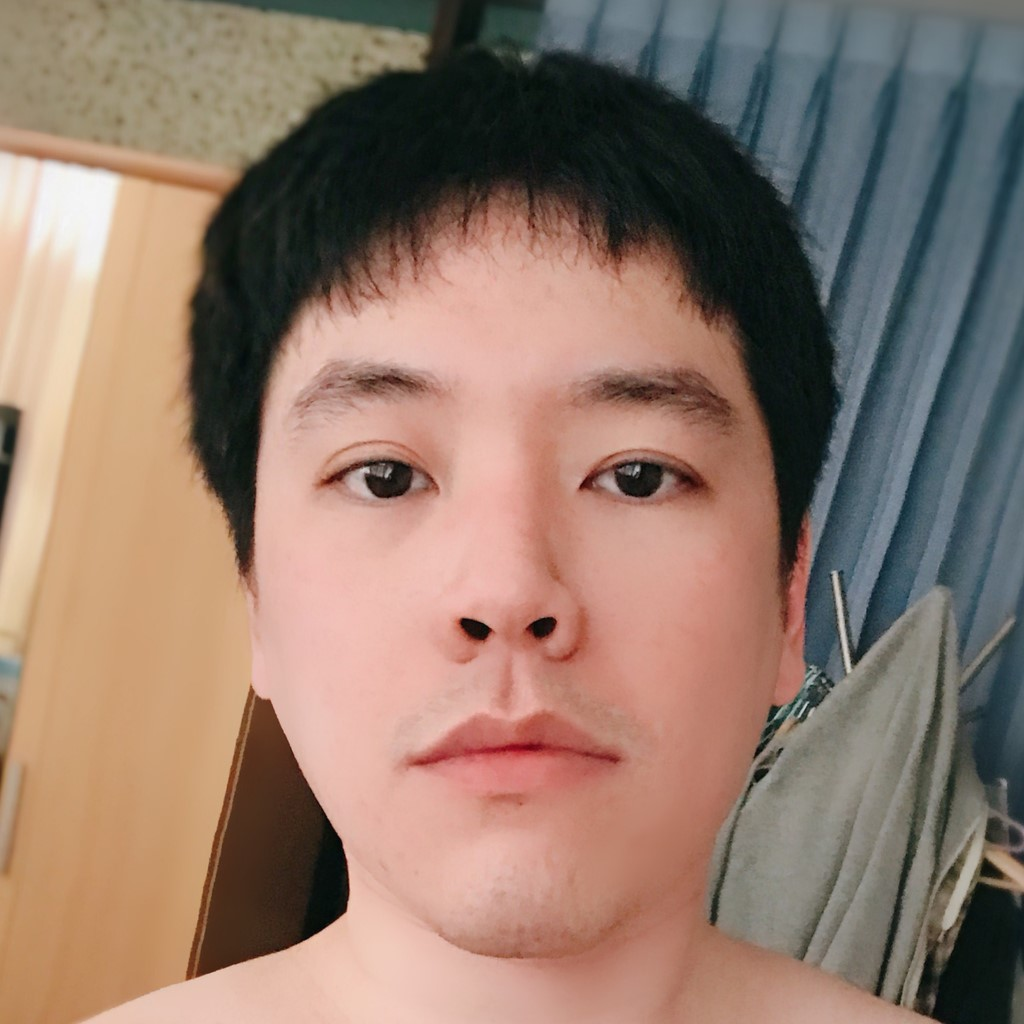sin_mascara: (235, 139, 797, 952)
